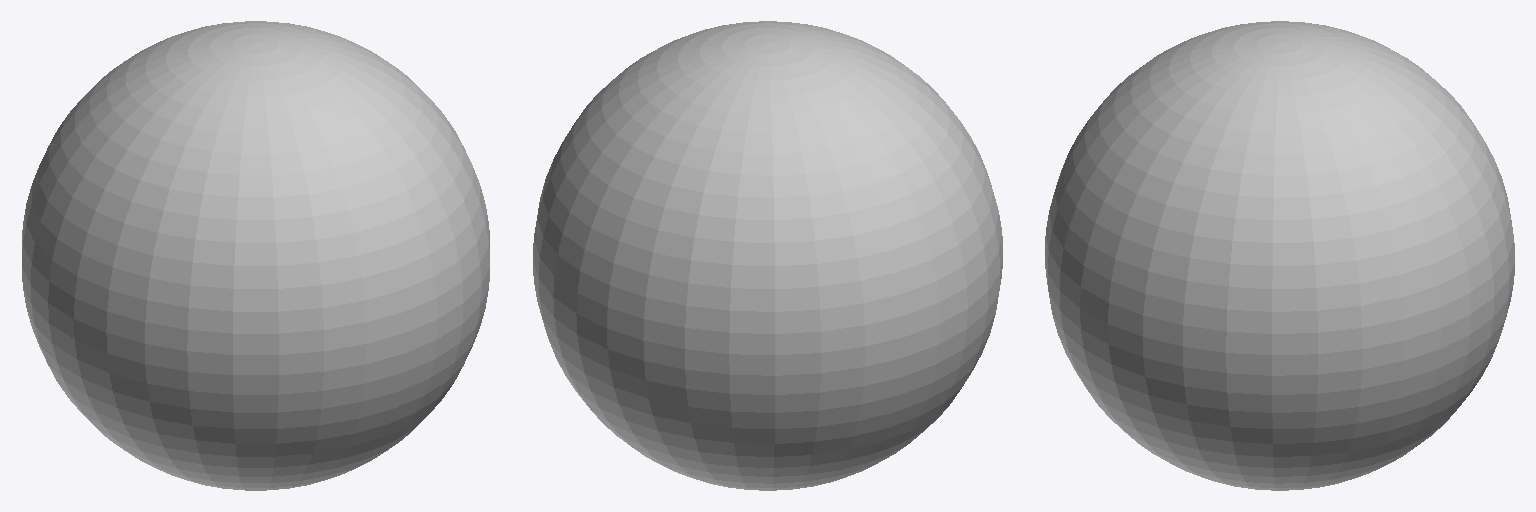
Rendered from RockyPlanets.obj.
The picture shows the model from 3 angles: view 1: azimuth 30°, elevation 25°; view 2: azimuth 150°, elevation 25°; view 3: azimuth 270°, elevation 25°; orthographic projection.
Parts seen in each view (by area): view 1: Earth_Sphere; view 2: Earth_Sphere; view 3: Earth_Sphere.
Part boxes in pixels (x1,y1,x2,y2): Earth_Sphere: (22,21,489,490); Earth_Sphere: (533,21,1002,490); Earth_Sphere: (1045,21,1514,490).
Size of the model in its own units: 6.39 by 6.38 by 6.39.